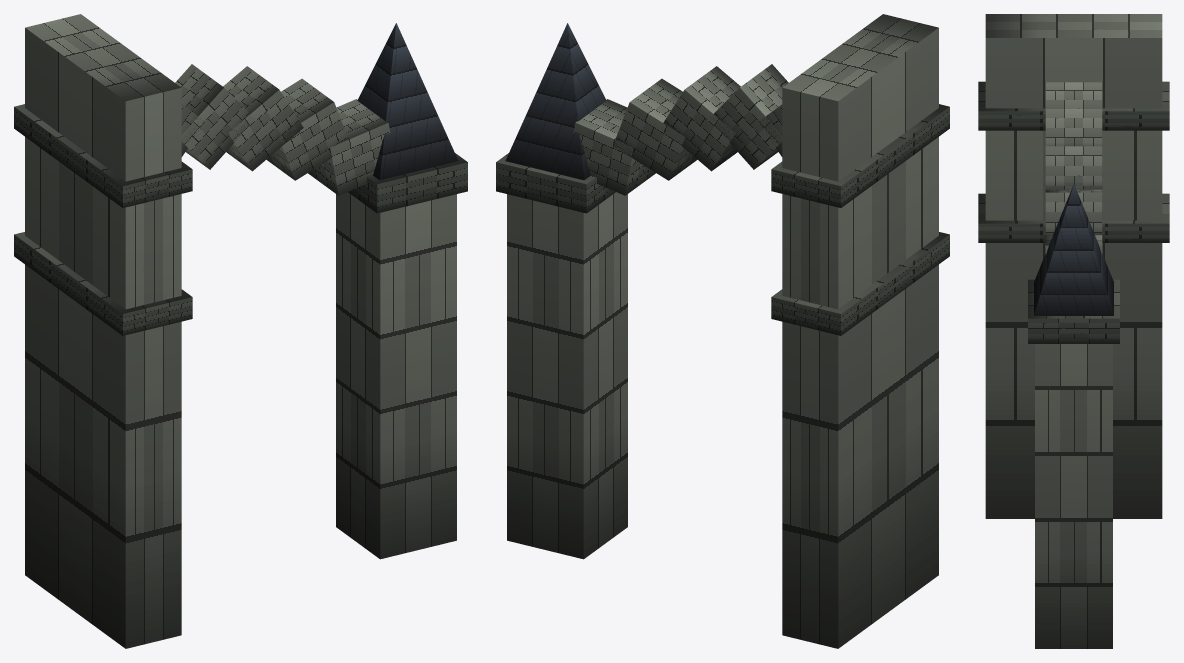
The model's file is buttress_flying.gltf.
3 views of the same model, side by side, from view 1: azimuth 30°, elevation 25°; view 2: azimuth 150°, elevation 25°; view 3: azimuth 270°, elevation 25° (orthographic). The views are drawn at different scales.
Visible parts, largest first — view 1: buttress_flying; view 2: buttress_flying; view 3: buttress_flying.
Boxes of the visible parts, left/top/right/bottom form: buttress_flying: left=14, top=14, right=467, bottom=648; buttress_flying: left=496, top=14, right=949, bottom=648; buttress_flying: left=978, top=14, right=1169, bottom=648.
Size of the model in its own units: 1.07 by 1.5 by 0.54.
Materials: 1 (1 with a texture image).
